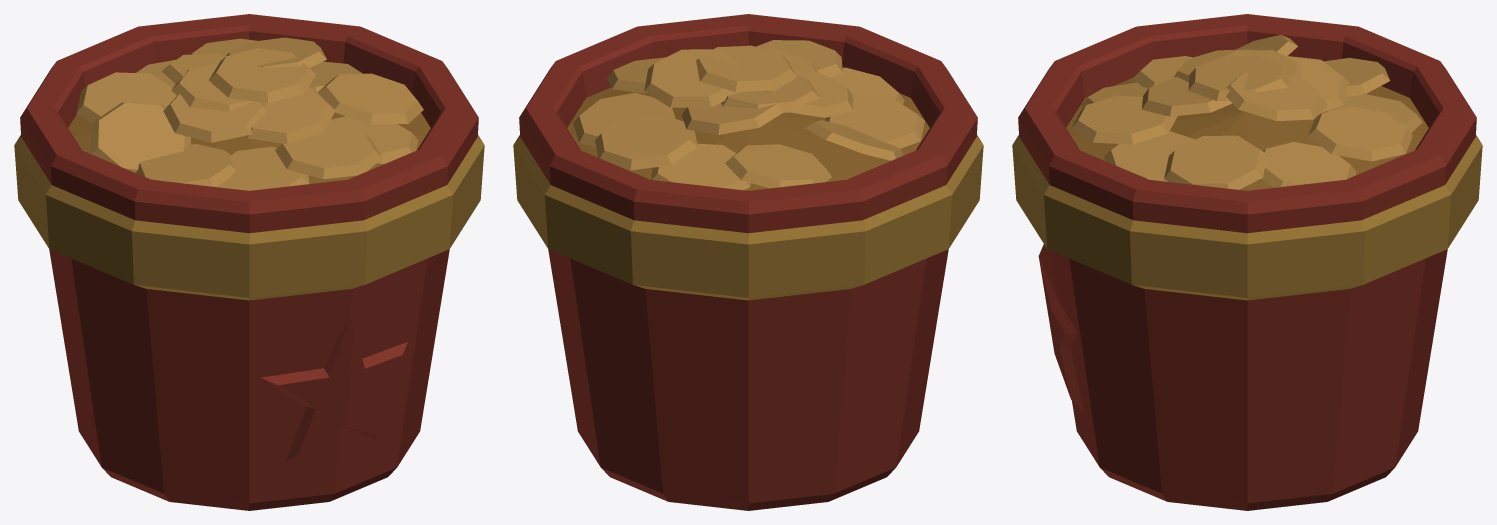
Rendered from slot-token-cup-4ee5e4.glb.
The picture shows the model from 3 angles, left to right: view 1: azimuth 30°, elevation 25°; view 2: azimuth 150°, elevation 25°; view 3: azimuth 270°, elevation 25°; orthographic projection.
Parts seen in each view (by area): view 1: cup, tokens-load; view 2: cup, tokens-load; view 3: cup, tokens-load.
Part boxes in pixels (x1,y1,x2,y2): cup: (14,14,484,510); tokens-load: (68,37,430,190); cup: (513,14,983,510); tokens-load: (567,40,929,190); cup: (1012,14,1482,510); tokens-load: (1066,35,1428,190).
Bounding box in the file's own units: 0.178 × 0.1578 × 0.178.
